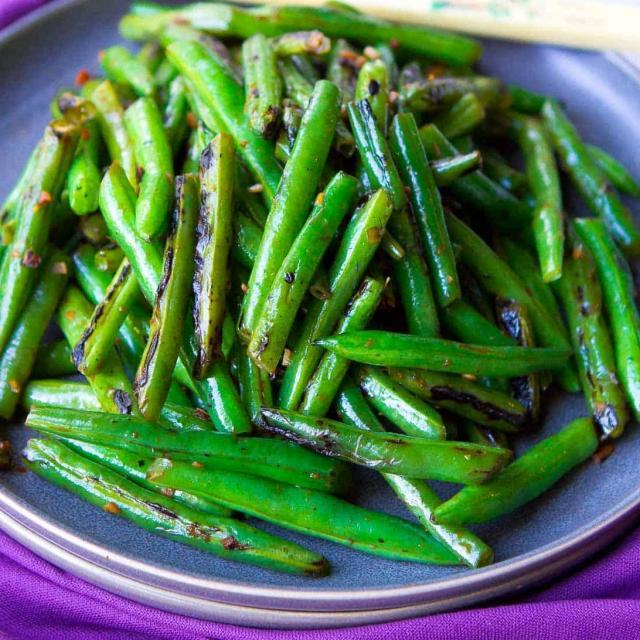Beans: (0, 0, 639, 594)
